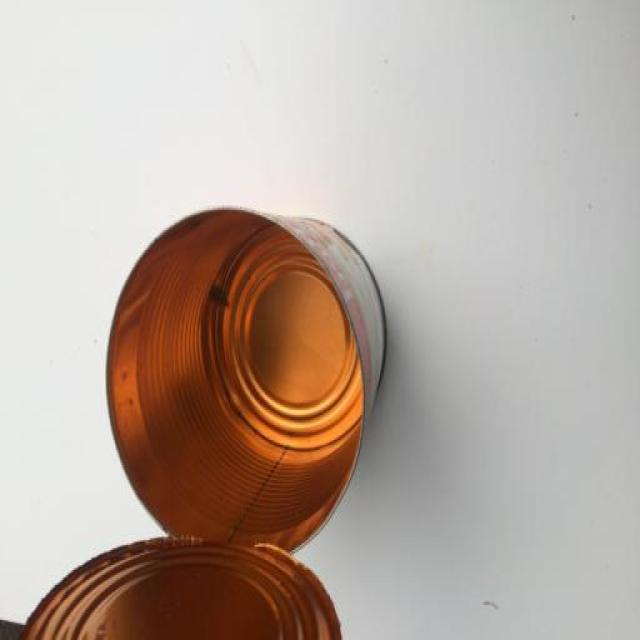Metal: (20, 205, 384, 640)
